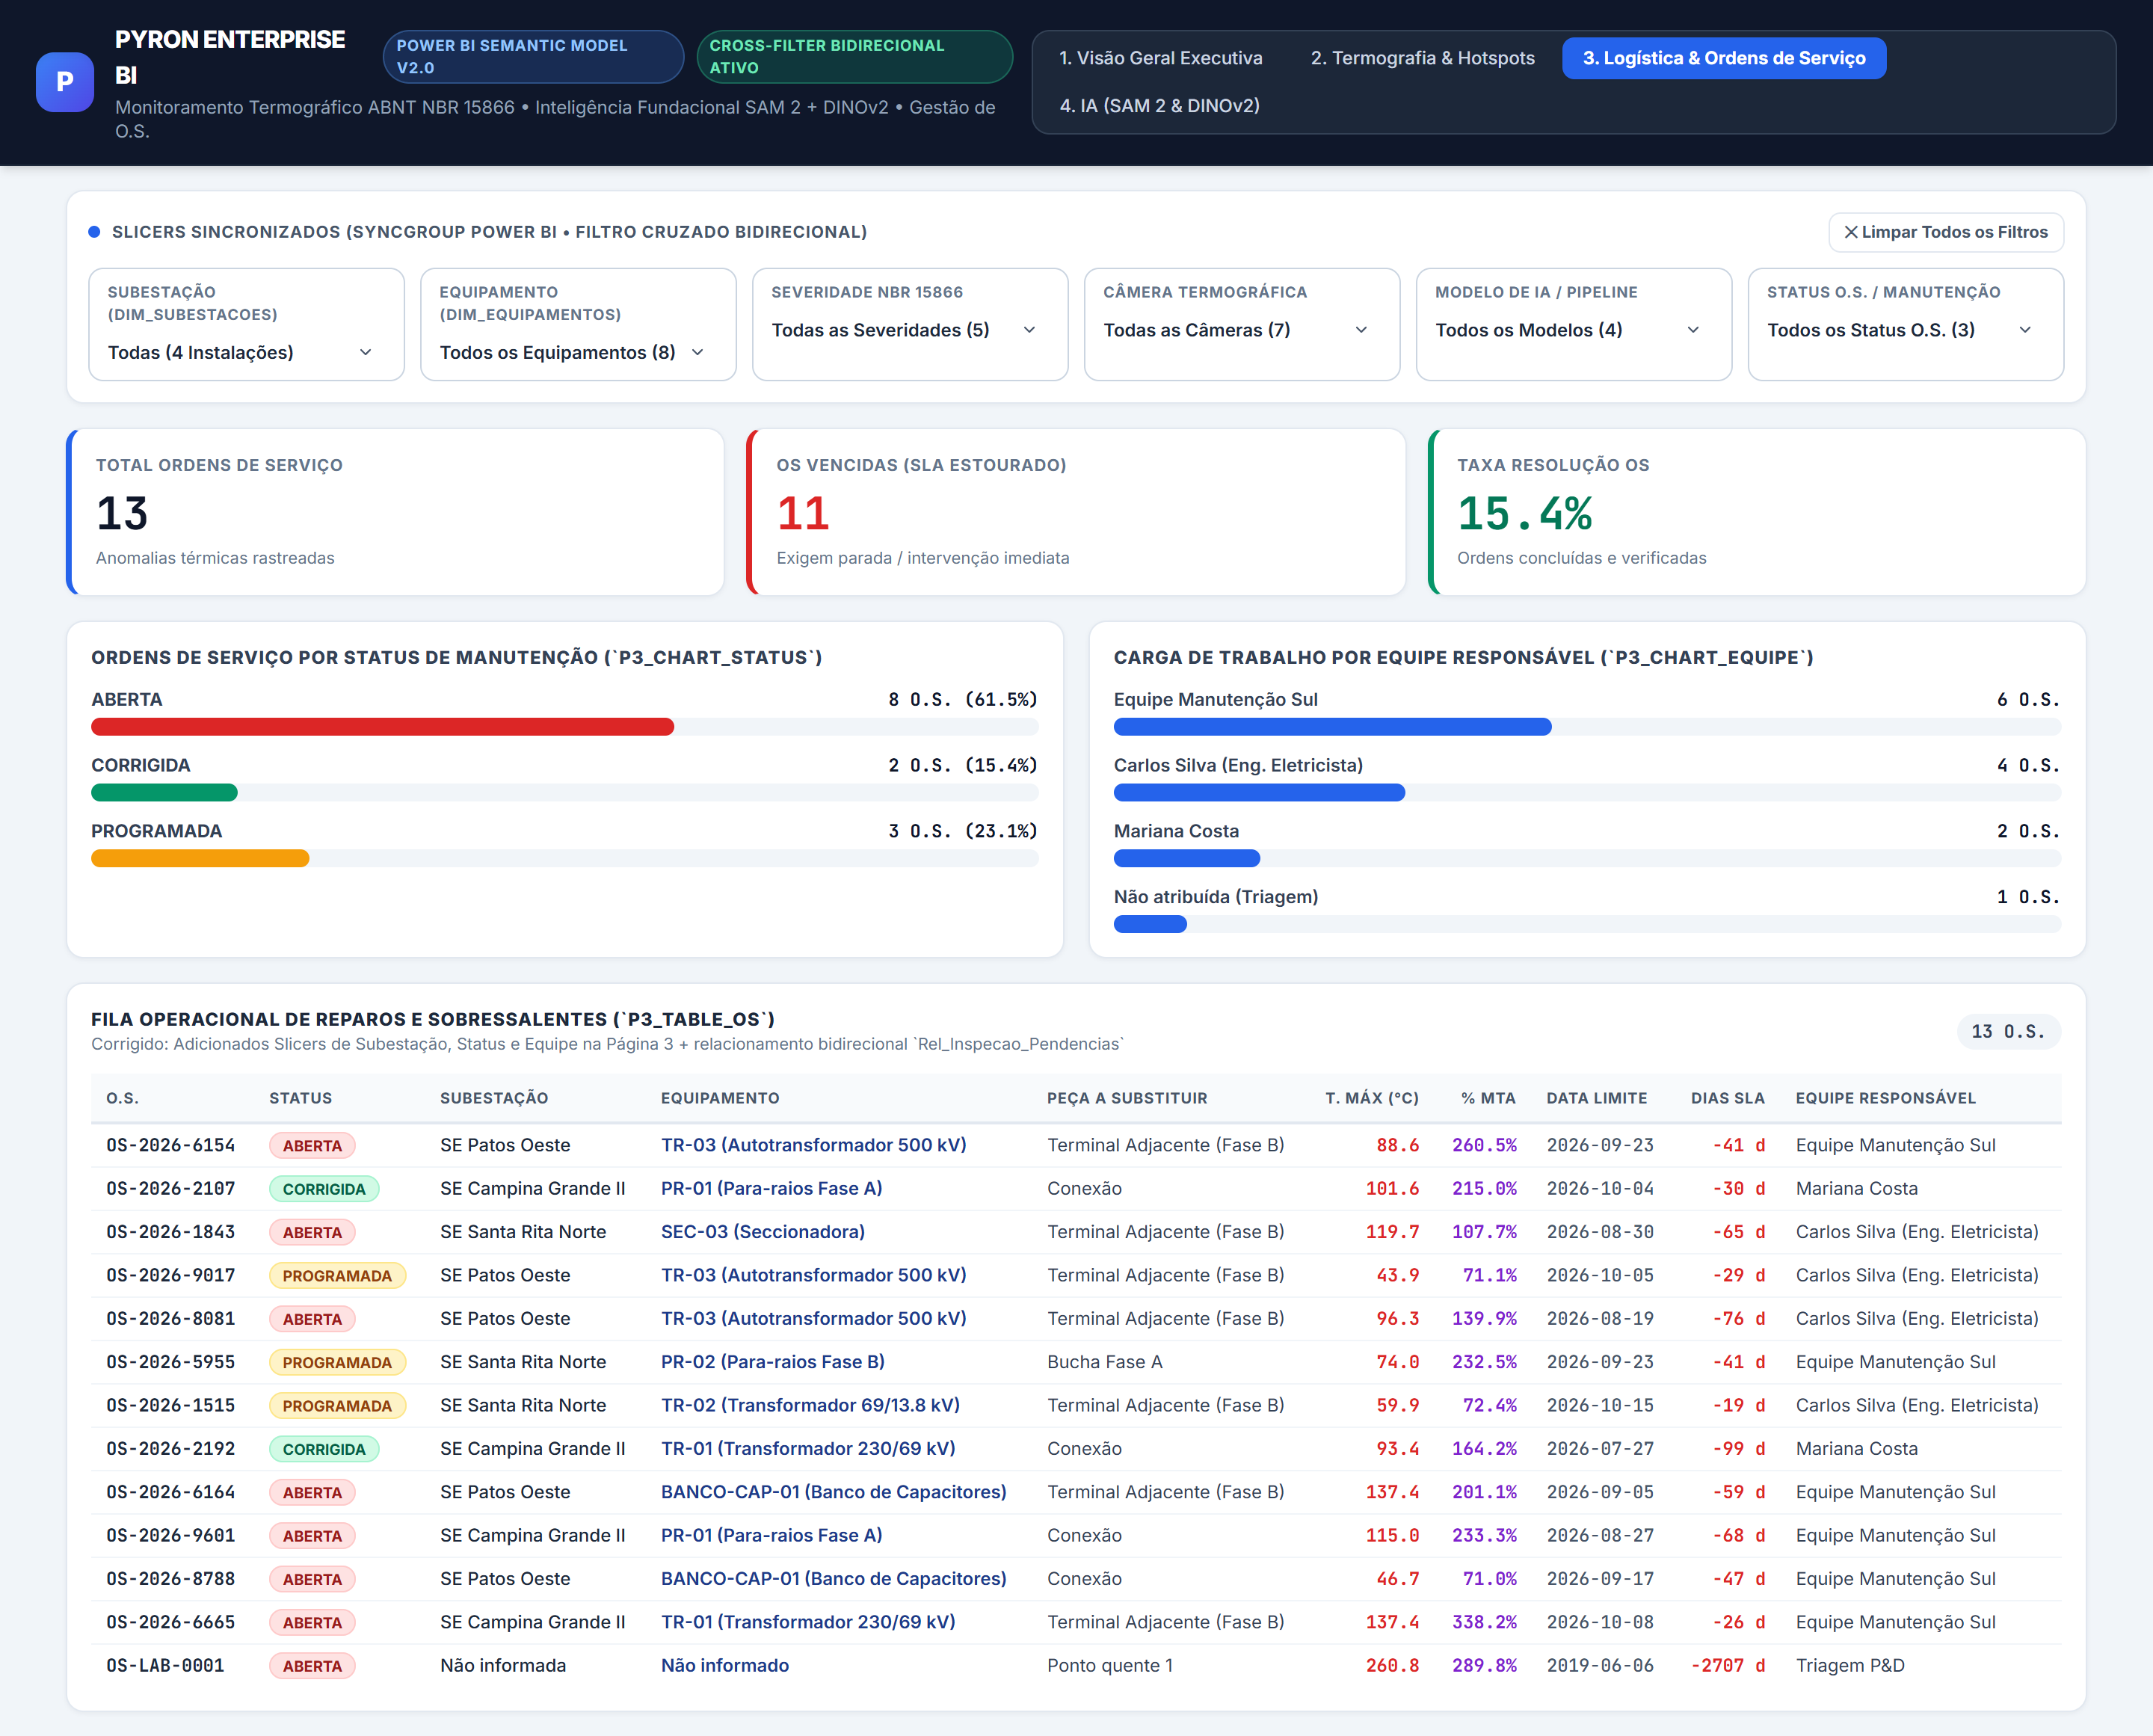

This screenshot's page, from the dashboard's own definition file:
{"tool":"powerbi","page":{"name":"3. Logística & Ordens de Serviço","canvas":[1280,720],"ordinal":2},"visuals":[{"type":"card","fields":{"Values":["_Medidas.Total Ordens de Serviço"]},"box":[20,15,195,110],"z":100},{"type":"card","fields":{"Values":["_Medidas.OS Vencidas"]},"box":[225,15,195,110],"z":200},{"type":"card","fields":{"Values":["_Medidas.Taxa Resolução OS"]},"box":[430,15,195,110],"z":300},{"type":"slicer","fields":{"Values":["Dim_Subestacoes.instalacao"]},"box":[640,15,200,110],"z":350},{"type":"slicer","fields":{"Values":["Fato_Pendencias_OS.status_manutencao"]},"box":[850,15,195,110],"z":380},{"type":"slicer","fields":{"Values":["Fato_Pendencias_OS.equipe_responsavel"]},"box":[1055,15,205,110],"z":390},{"type":"donutChart","fields":{"Category":["Fato_Pendencias_OS.status_manutencao"],"Y":["_Medidas.Total Ordens de Serviço"]},"box":[20,140,420,260],"z":400},{"type":"clusteredBarChart","fields":{"Category":["Fato_Pendencias_OS.equipe_responsavel"],"Y":["_Medidas.Total Ordens de Serviço"]},"box":[460,140,800,260],"z":500},{"type":"tableEx","fields":{"Values":["Fato_Pendencias_OS.ordem_servico","Fato_Pendencias_OS.status_manutencao","Fato_Pendencias_OS.subestacao_instalacao","Fato_Pendencias_OS.equipamento","Fato_Pendencias_OS.peca_a_reparar_substituir","Fato_Pendencias_OS.t_max_detectada_c","Fato_Pendencias_OS.pct_mta_atingido","Fato_Pendencias_OS.data_limite","Fato_Pendencias_OS.dias_restantes_para_reparo","Fato_Pendencias_OS.equipe_responsavel"]},"box":[20,415,1240,285],"z":600}]}

Visuals, with their boxes on the page's 1280x720 design canvas (x1, y1, x2, y2). These are canvas units, not pixel positions in the 2153x1736 screenshot, which may show the page scaled, cropped or inside an application window:
card - _Medidas.Total Ordens de Serviço: {"x1": 20, "y1": 15, "x2": 215, "y2": 125}
card - _Medidas.OS Vencidas: {"x1": 225, "y1": 15, "x2": 420, "y2": 125}
card - _Medidas.Taxa Resolução OS: {"x1": 430, "y1": 15, "x2": 625, "y2": 125}
slicer - Dim_Subestacoes.instalacao: {"x1": 640, "y1": 15, "x2": 840, "y2": 125}
slicer - Fato_Pendencias_OS.status_manutencao: {"x1": 850, "y1": 15, "x2": 1045, "y2": 125}
slicer - Fato_Pendencias_OS.equipe_responsavel: {"x1": 1055, "y1": 15, "x2": 1260, "y2": 125}
donutChart - Fato_Pendencias_OS.status_manutencao x _Medidas.Total Ordens de Serviço: {"x1": 20, "y1": 140, "x2": 440, "y2": 400}
clusteredBarChart - Fato_Pendencias_OS.equipe_responsavel x _Medidas.Total Ordens de Serviço: {"x1": 460, "y1": 140, "x2": 1260, "y2": 400}
tableEx - Fato_Pendencias_OS.ordem_servico x Fato_Pendencias_OS.status_manutencao: {"x1": 20, "y1": 415, "x2": 1260, "y2": 700}
